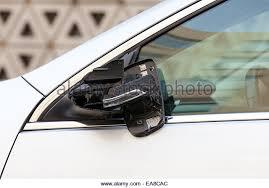Sidemirror-Damage: (69, 63, 173, 138)
